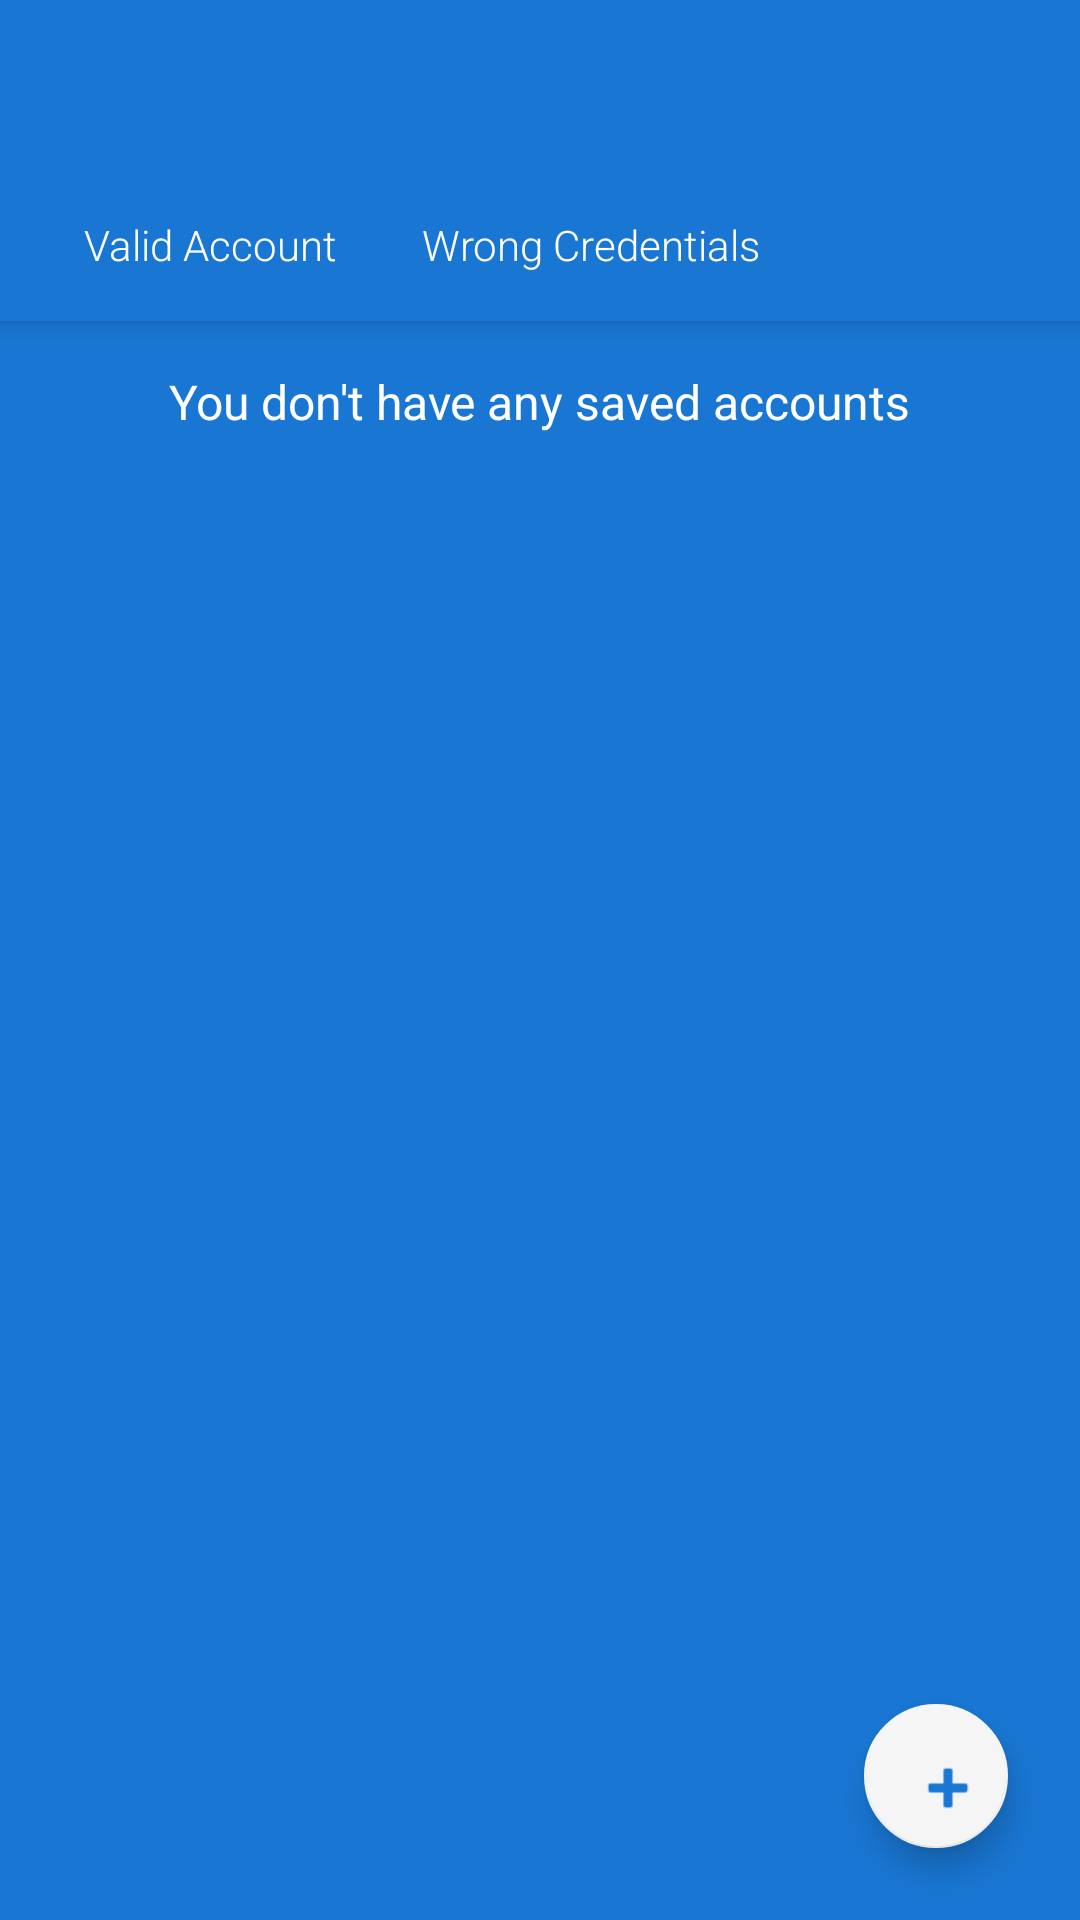

Where icons sit on this 1080×1920 app screen, as {"left": x1, "top": y1, "right": x2, "bottom": y2}:
add: {"left": 864, "top": 1704, "right": 1008, "bottom": 1848}
